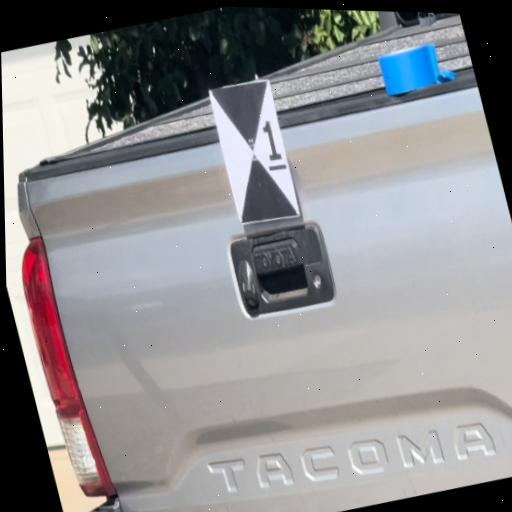target1: (209, 77, 301, 228)
